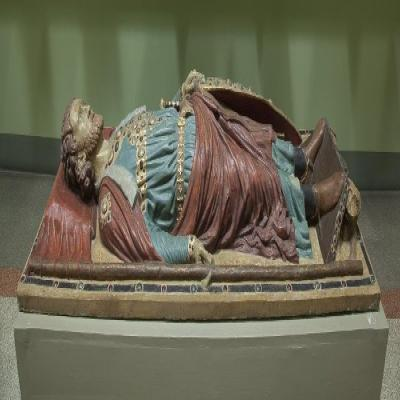sculpture: (18, 71, 385, 400)
